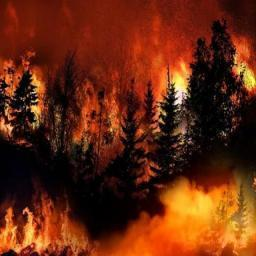Heavy smoke: (1, 0, 255, 97)
Large fire: (3, 34, 255, 255)
